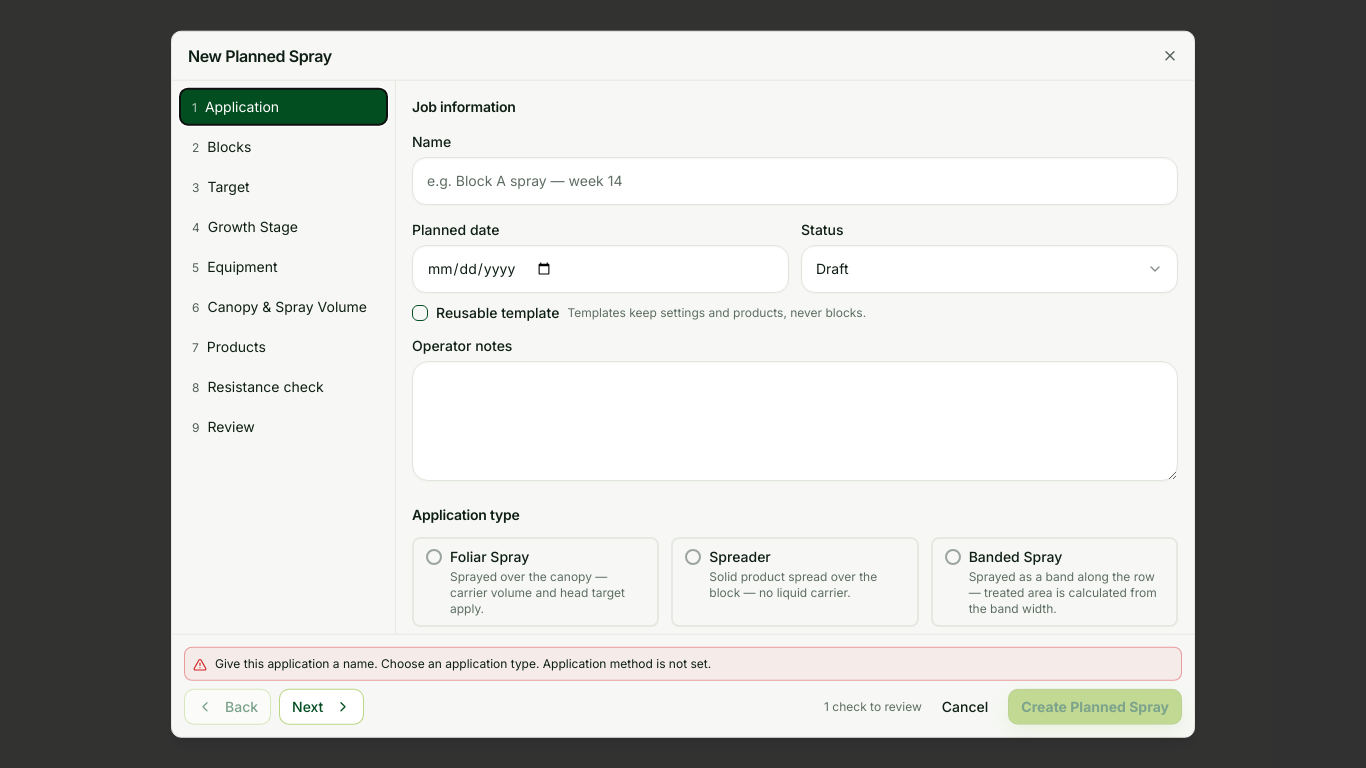
Scenario: Stage 3B wizard shell › keeps entered values when moving between steps and back
Type "Week 14 spray" into the field labelled "Name" at (795, 181), box [412,157,1178,205]
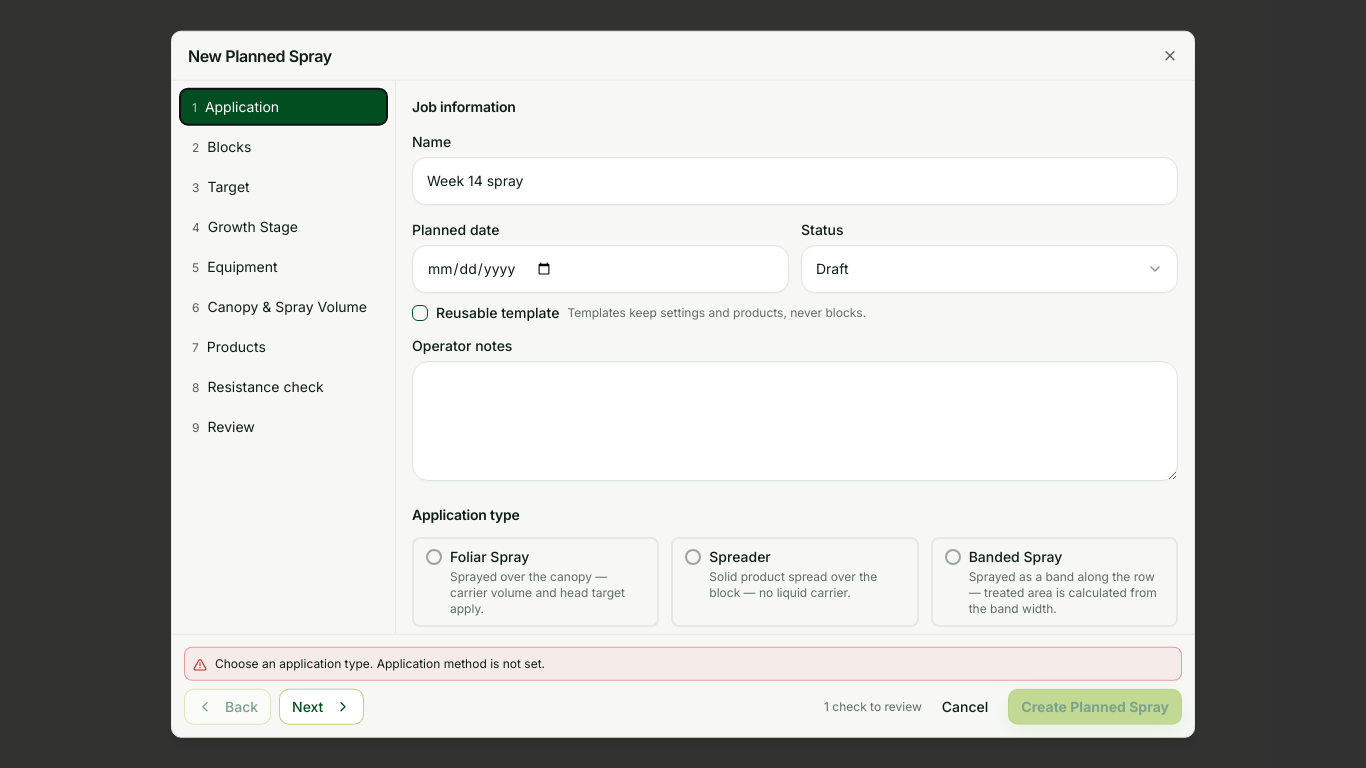
Click the button "2Blocks" at (284, 147), box [180,129,387,165]
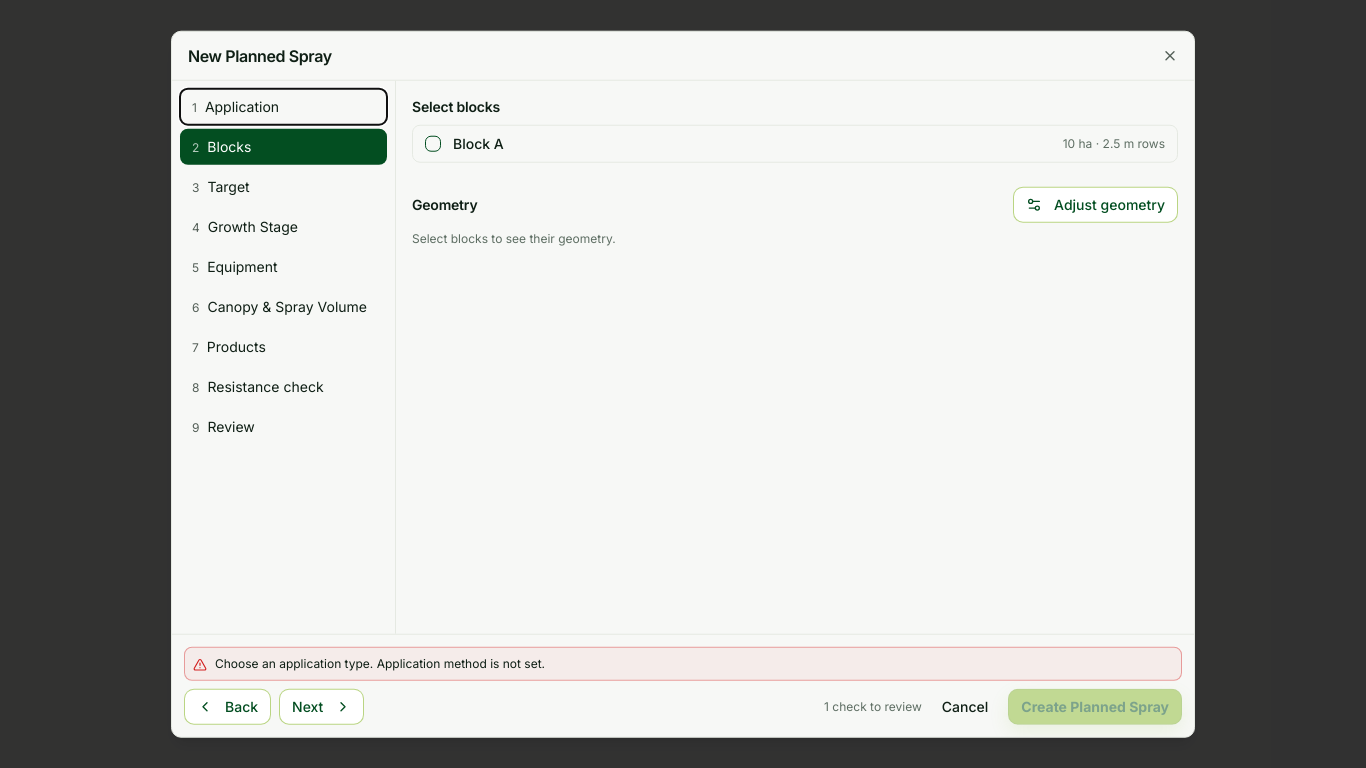
Result: the text "Block A" is shown at [453,135,504,152]
Click the button "6Canopy & Spray Volume" at (284, 307), box [180,289,387,325]
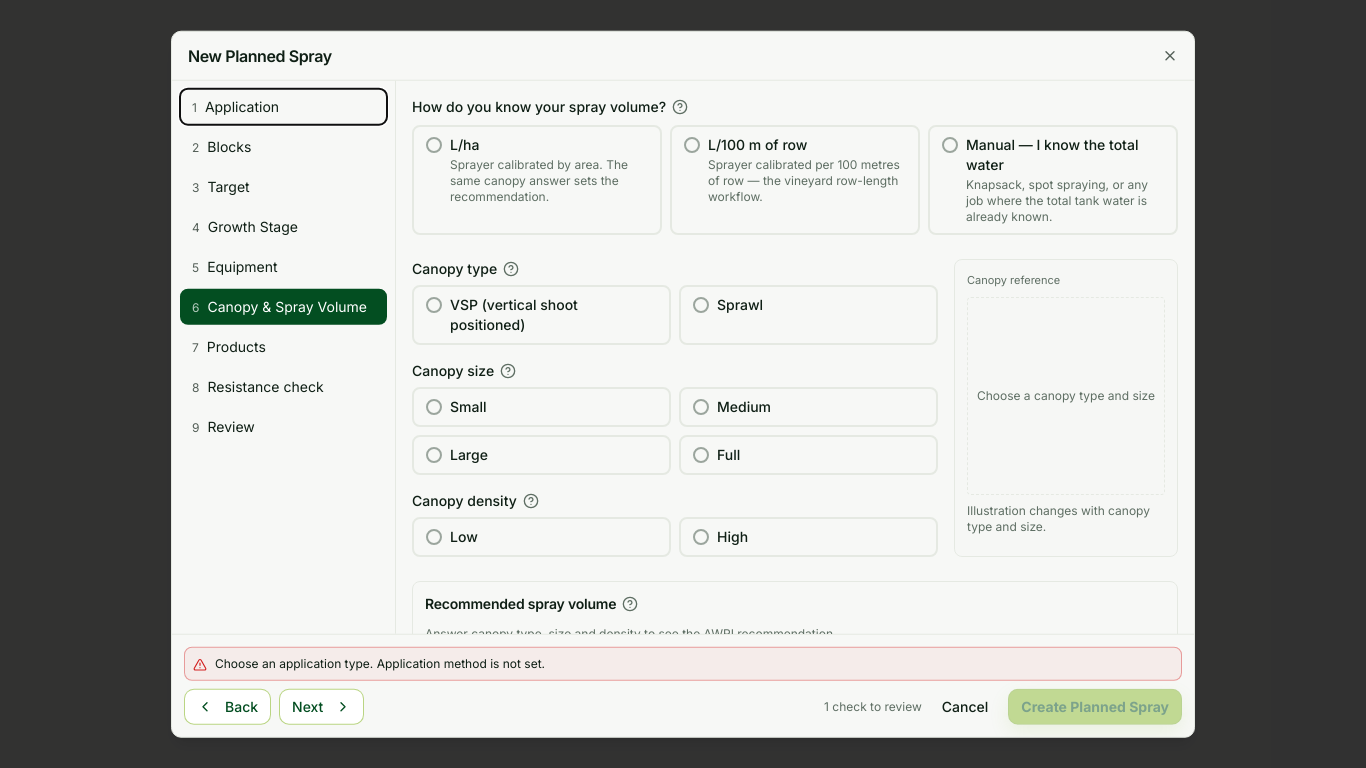
Click the button "1Application" at (284, 107), box [180,89,387,125]
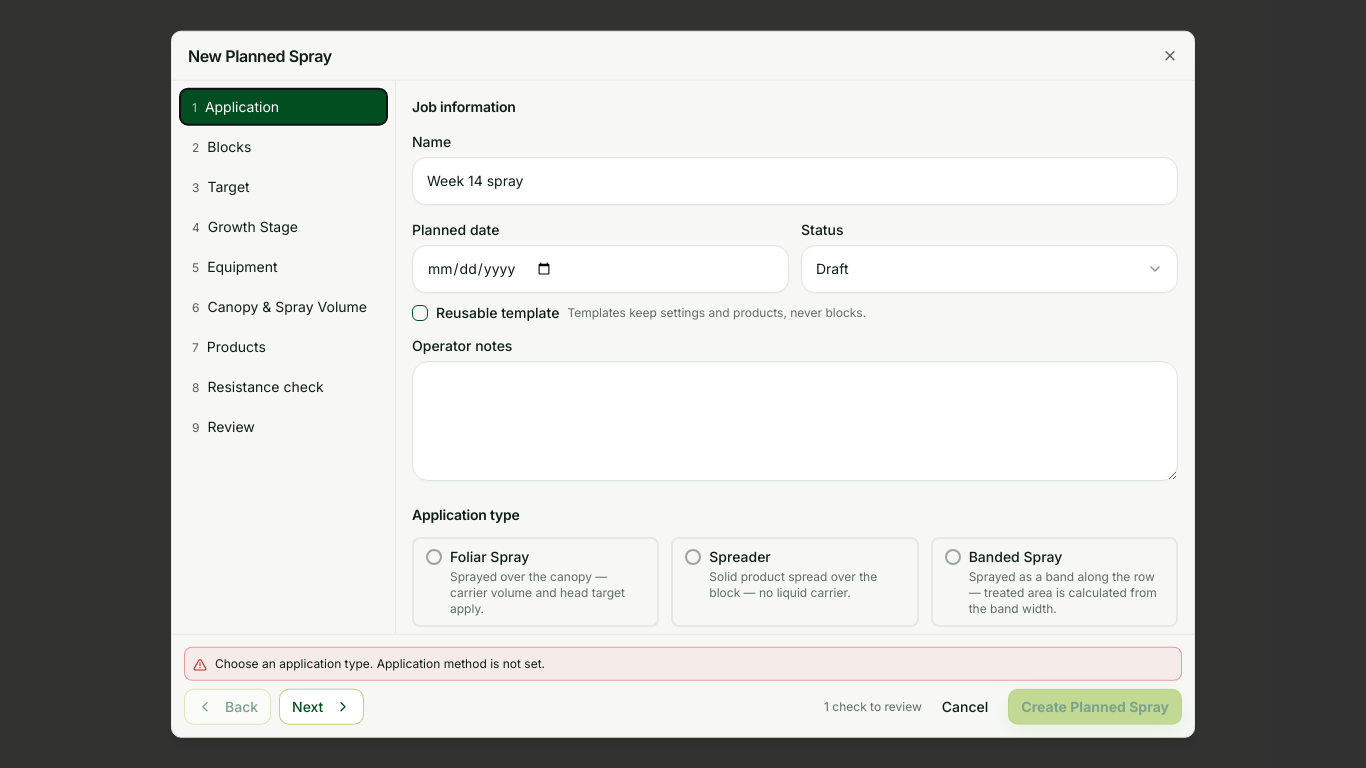
Result: the field labelled "Name" holds "Week 14 spray" at [412,157,1178,205]
